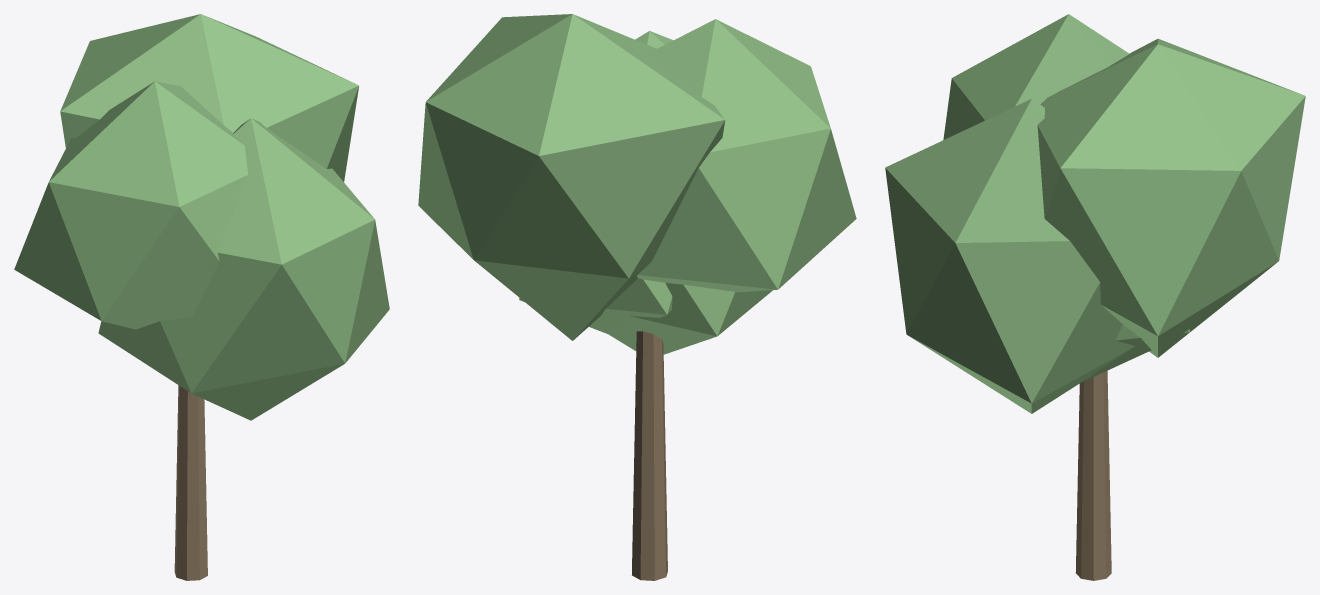
File: Tree_B.fbx
The picture shows the model from 3 angles, left to right: view 1: azimuth 30°, elevation 25°; view 2: azimuth 150°, elevation 25°; view 3: azimuth 270°, elevation 25°; orthographic projection. The views are drawn at different scales.
Parts seen in each view (by area): view 1: Tree_B_Mesh; view 2: Tree_B_Mesh; view 3: Tree_B_Mesh.
Part boxes in pixels (x1,y1,x2,y2): Tree_B_Mesh: (14,14,389,580); Tree_B_Mesh: (418,14,856,580); Tree_B_Mesh: (885,14,1305,580).
Size of the model in its own units: 3.61 by 3.74 by 5.4.
